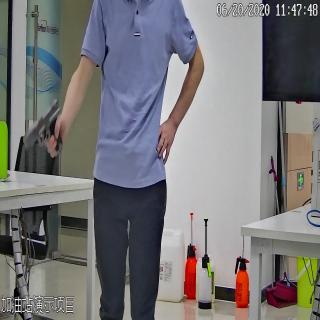gun: (21, 101, 66, 158)
